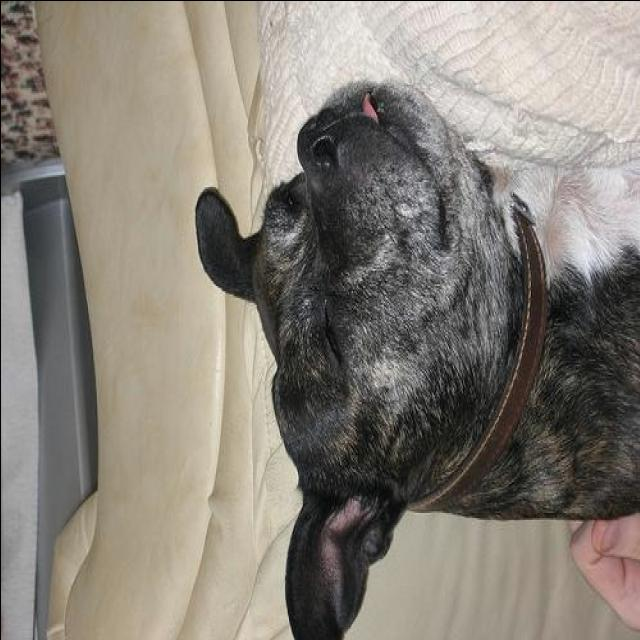staffordshire_bullterrier: (184, 79, 638, 640)
